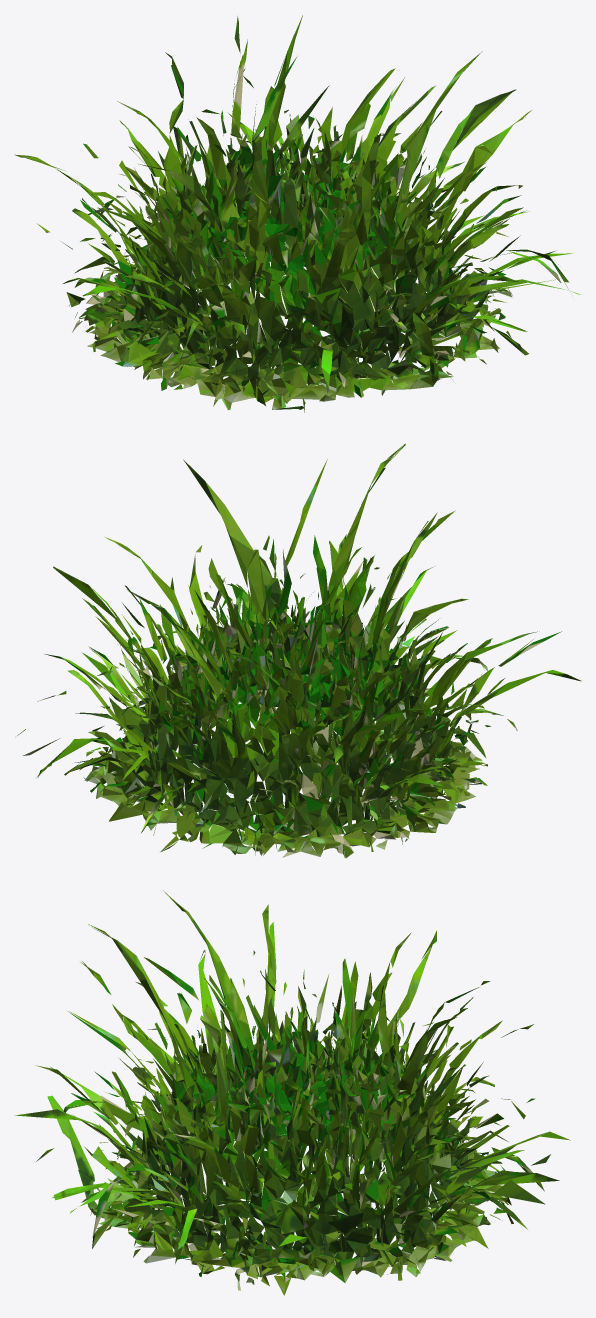
Rendered from grass1.glb.
3 renders of one model, top to bottom at view 1: azimuth 30°, elevation 25°; view 2: azimuth 150°, elevation 25°; view 3: azimuth 270°, elevation 25°, orthographic. The views are drawn at different scales.
Visible parts, largest first — view 1: geometry_0; view 2: geometry_0; view 3: geometry_0.
Boxes of the visible parts, x1,y1,x2,y2 form: geometry_0: [14, 15, 580, 412]; geometry_0: [17, 443, 581, 858]; geometry_0: [15, 890, 570, 1295].
Size of the model in its own units: 1.87 by 1.03 by 1.88.
1 material, 1 textured.
